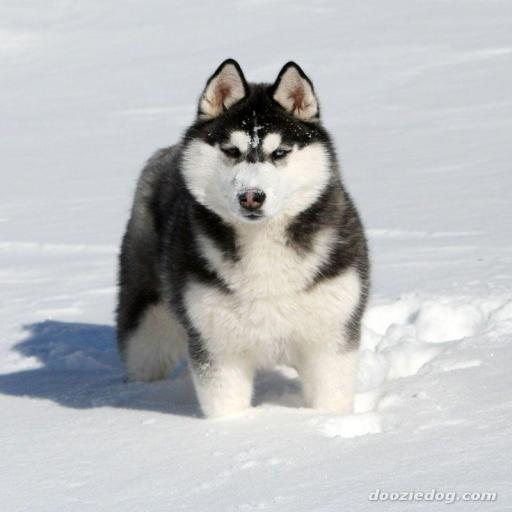dog_face: (192, 59, 319, 219)
